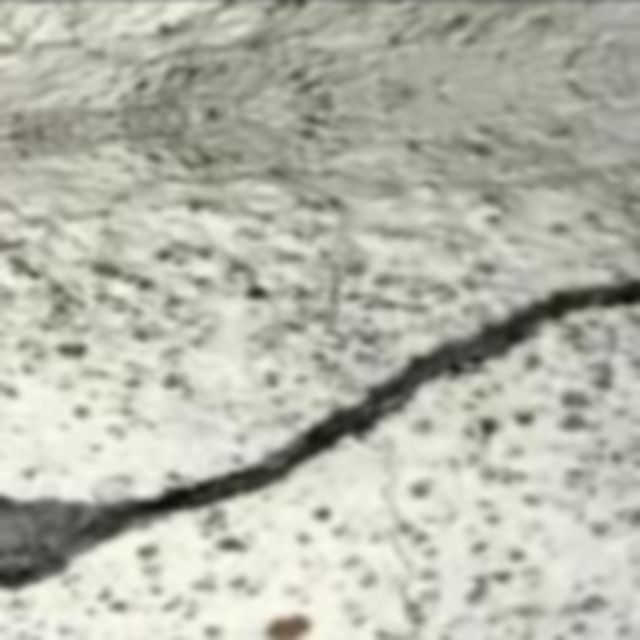SurfaceCrack: (2, 228, 640, 606)
